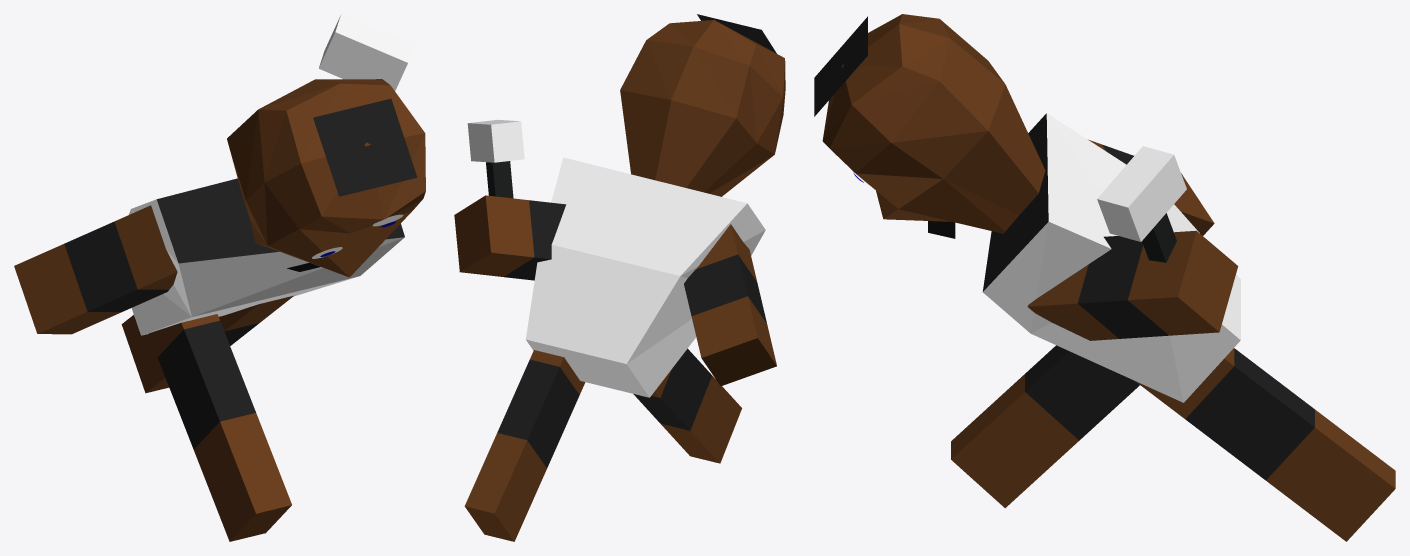
Rendered from slave2f.obj.
3 views of the same model, side by side, from view 1: azimuth 30°, elevation 25°; view 2: azimuth 150°, elevation 25°; view 3: azimuth 270°, elevation 25° (orthographic). The views are drawn at different scales.
Parts seen in each view (by area): view 1: Cube, Cube.001, Cube.004, Cube.003, Plane.002, Cube.008, Cube.005; view 2: Cube.001, Cube, Cube.005, Cube.003, Cube.002, Cube.004, Cube.008, Cube.007, Plane.002; view 3: Cube, Cube.001, Cube.005, Cube.002, Cube.004, Cube.008, Plane.002, Cube.003, Cube.007.
Part boxes in pixels (x1,y1,x2,y2): Cube: (227,79,425,277); Cube.001: (129,178,404,335); Cube.004: (148,314,291,541); Cube.003: (14,205,177,334); Plane.002: (313,98,417,196); Cube.008: (319,14,413,91); Cube.005: (121,295,293,393); Cube.001: (525,157,765,397); Cube: (620,20,785,196); Cube.005: (464,350,585,541); Cube.003: (684,224,776,386); Cube.002: (454,195,566,280); Cube.004: (633,348,741,463); Cube.008: (467,119,524,162); Cube.007: (486,161,513,198); Plane.002: (697,14,776,53); Cube: (822,14,1045,233); Cube.001: (982,113,1240,402); Cube.005: (1135,348,1395,541); Cube.002: (1027,230,1238,340); Cube.004: (951,345,1139,508); Cube.008: (1097,146,1186,241); Plane.002: (814,16,867,116); Cube.003: (1088,139,1214,235); Cube.007: (1142,213,1176,262).
Bounding box in the file's own units: 3.58 × 4.4 × 4.68.
